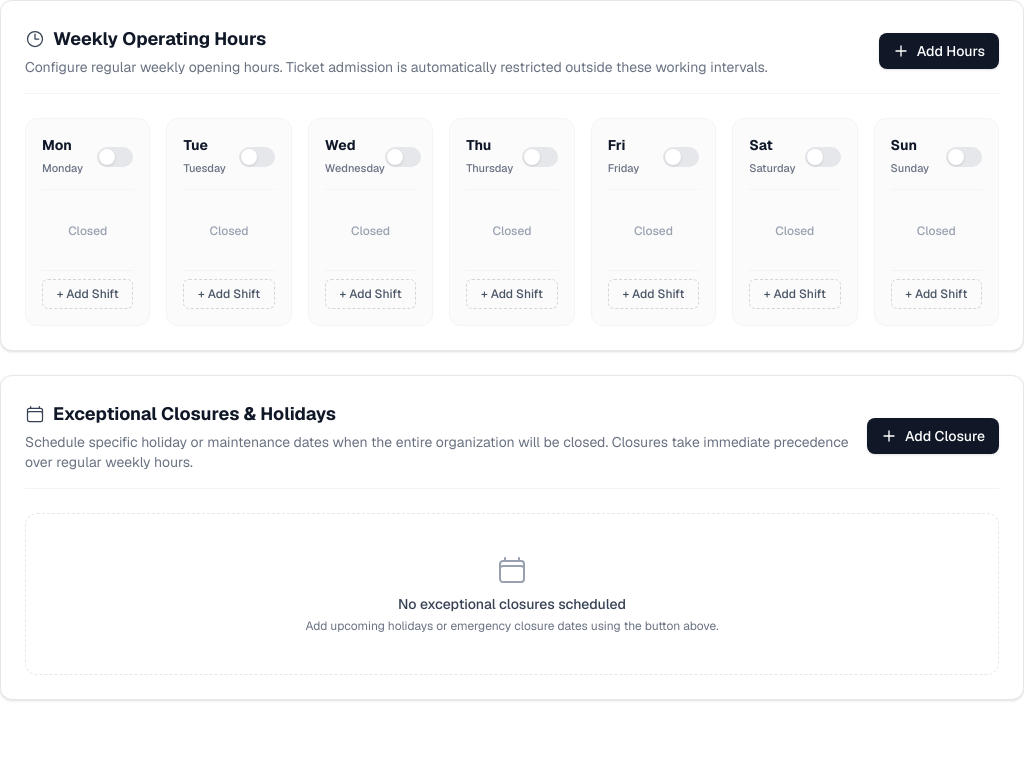
Test case: OperatingHoursManagement Component › creates a new schedule interval and updates the UI
Expected: the heading "Weekly Operating Hours" is shown, left=53, top=25, right=266, bottom=53
Click the button "Add Hours".
click(939, 51)  # box left=879, top=33, right=999, bottom=69
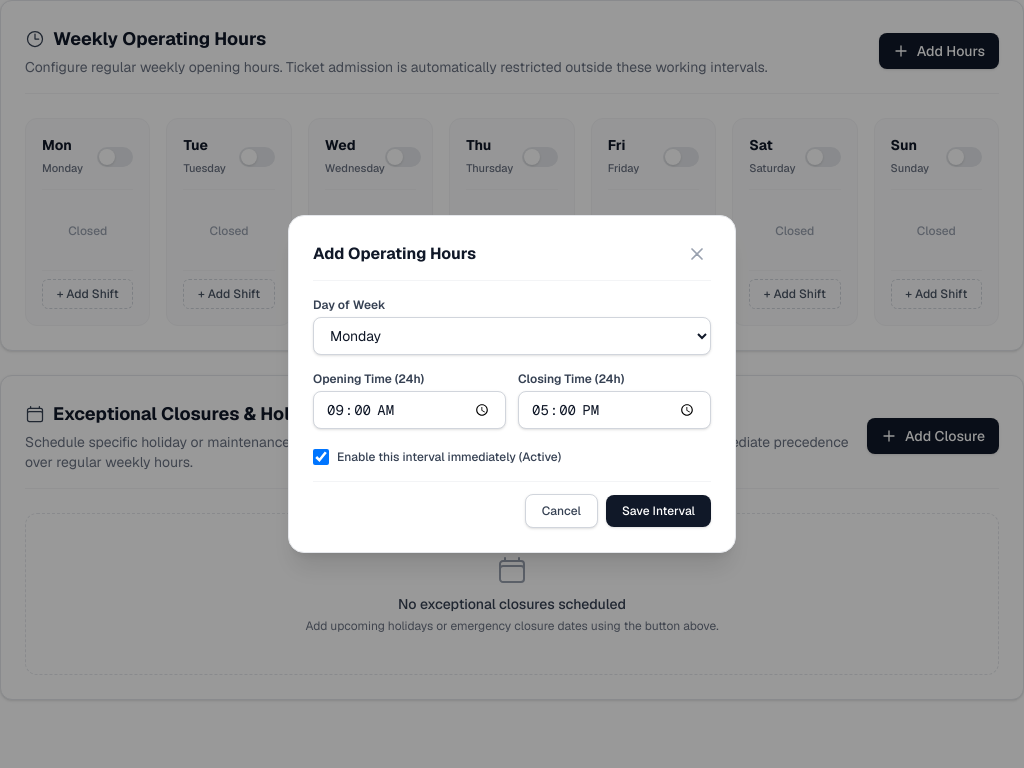
Select "Wednesday" in the dropdown labelled "Day of Week" at {"x": 512, "y": 336}, box left=313, top=317, right=711, bottom=355
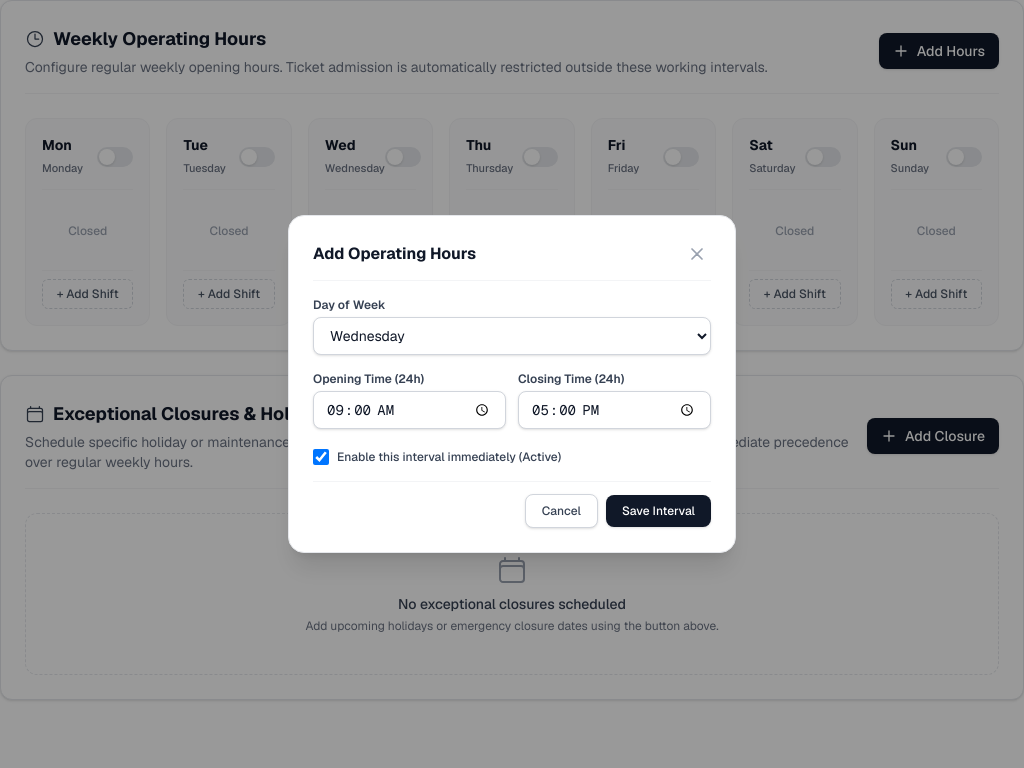
Replace the text in the time field labelled "Opening Time (24h)" with "10:00" at {"x": 410, "y": 410}, box left=313, top=391, right=506, bottom=429
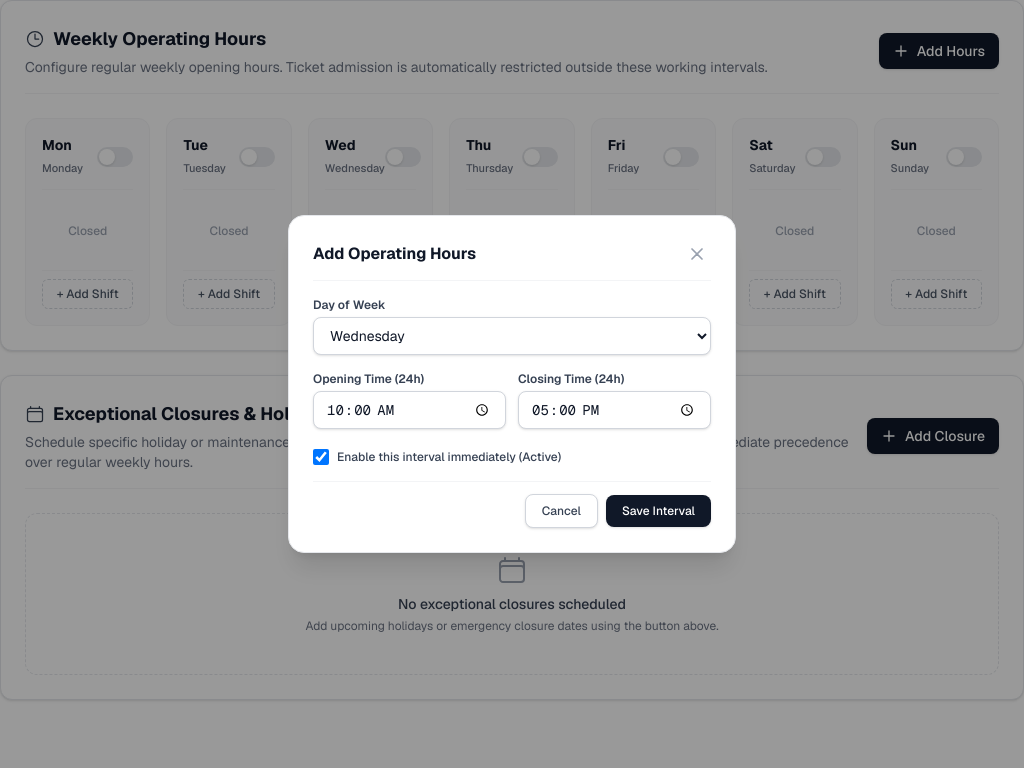
Replace the text in the time field labelled "Closing Time (24h)" with "16:00" at {"x": 614, "y": 410}, box left=518, top=391, right=711, bottom=429
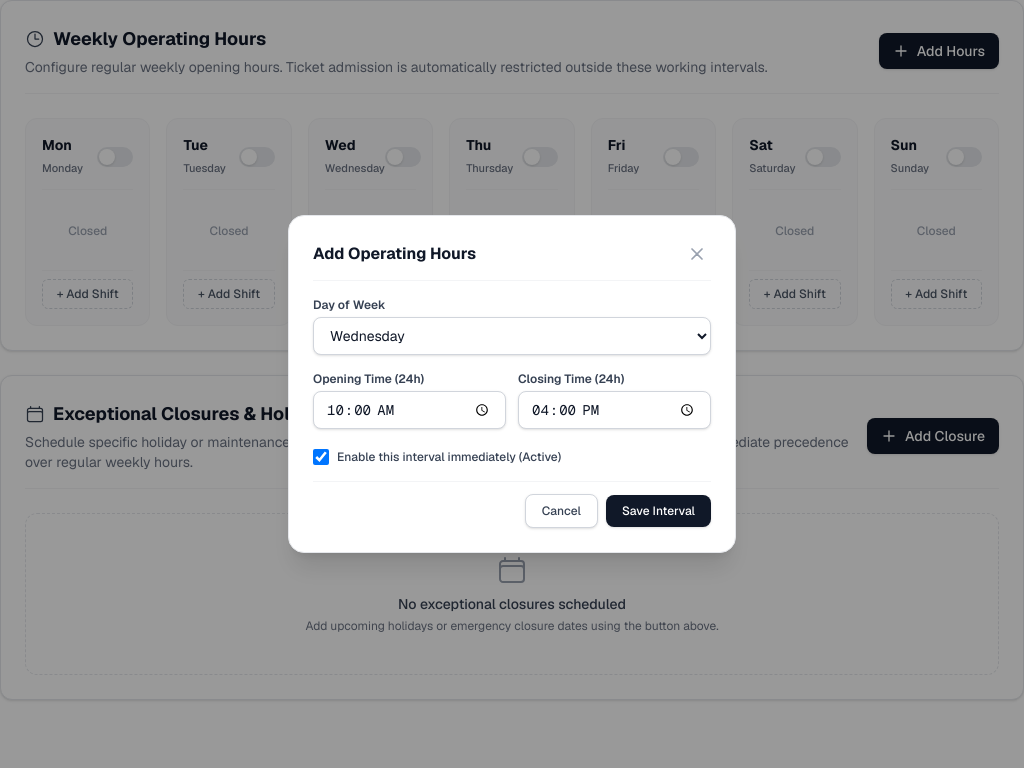
Click the button "Save Interval".
click(658, 511)  # box left=606, top=495, right=711, bottom=527
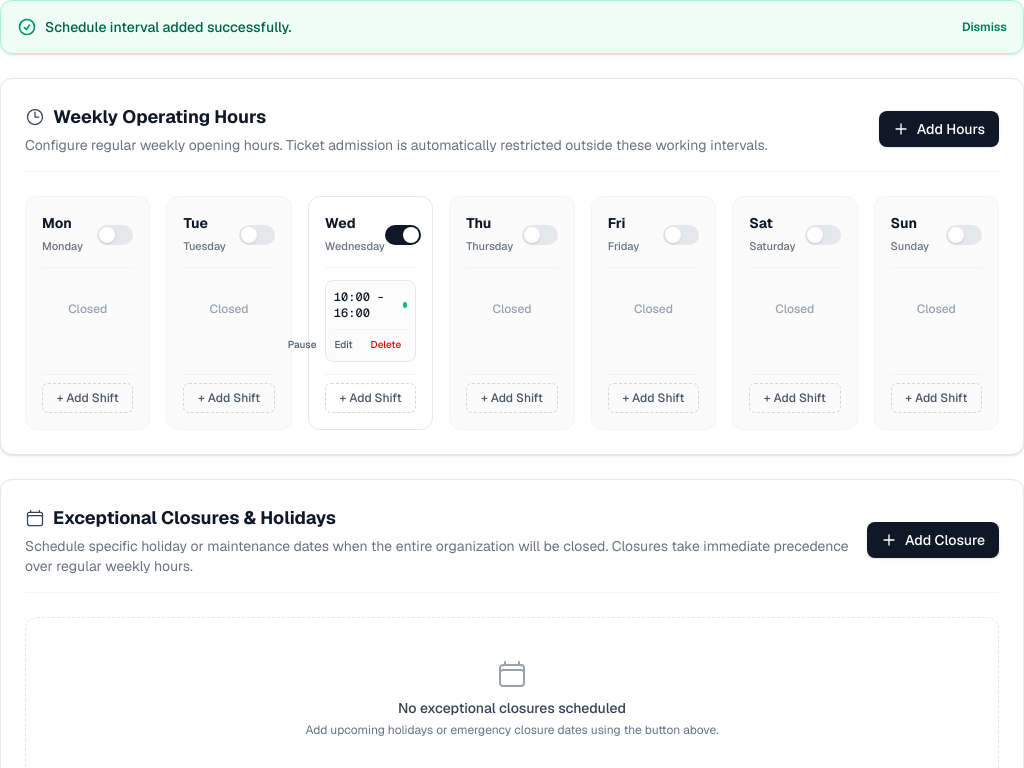
Expected: the text "Schedule interval added successfully." is shown, left=45, top=17, right=292, bottom=37
Expected: the text "10:00 - 16:00" is shown, left=334, top=289, right=384, bottom=321
